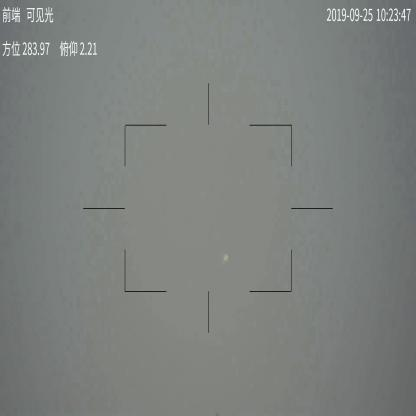uav: (221, 252, 229, 263)
